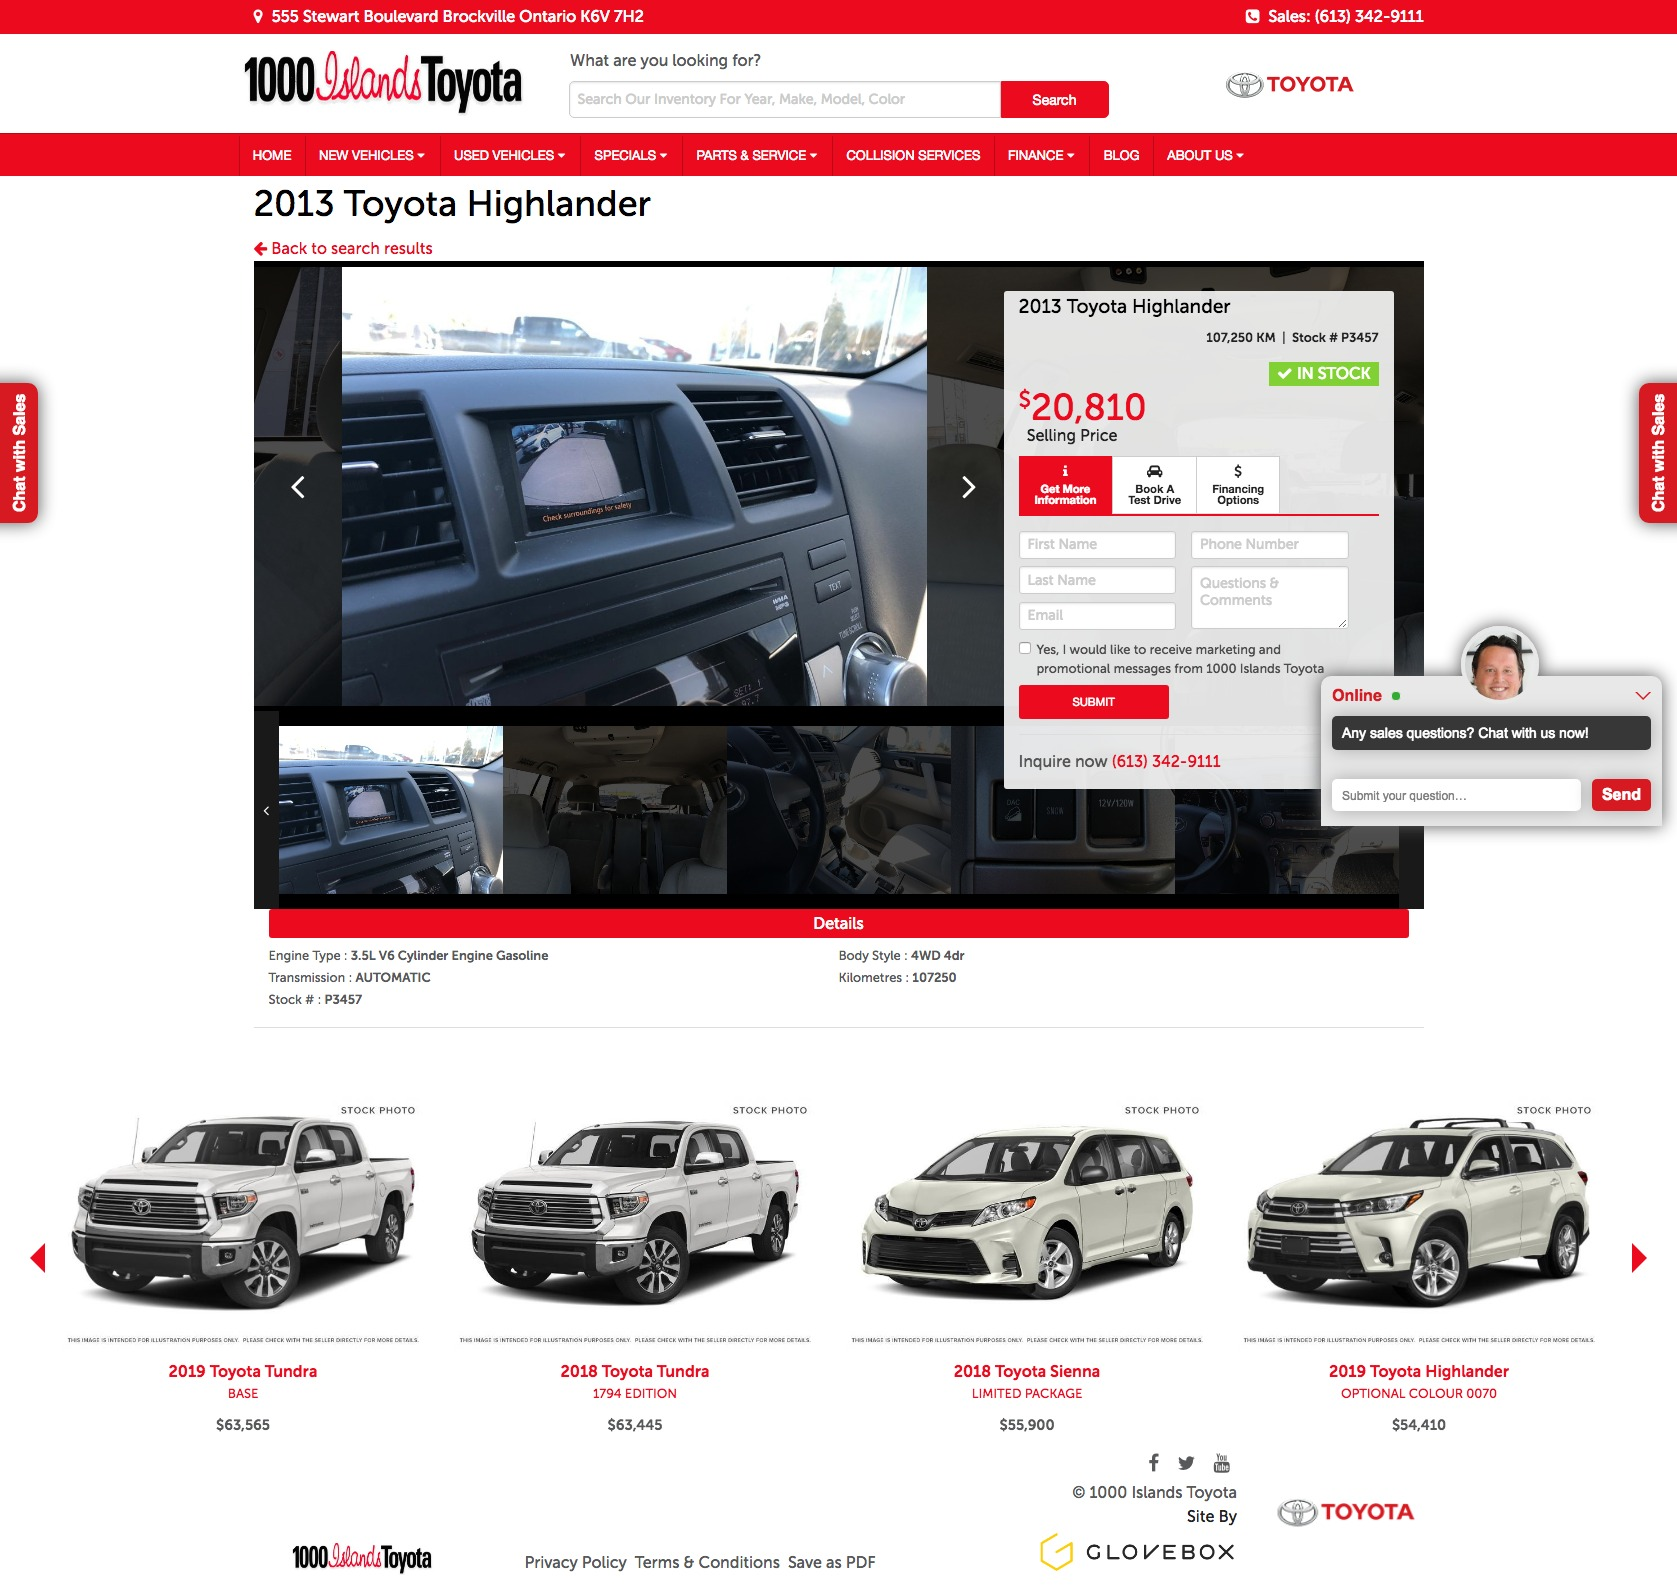car: (961, 477, 978, 501)
